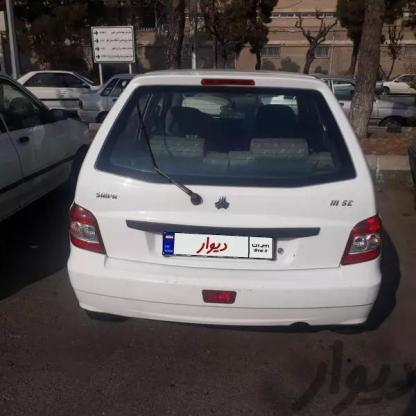Car: (72, 68, 386, 344), (0, 66, 84, 235), (0, 62, 81, 118), (79, 71, 124, 118), (373, 66, 416, 100)
